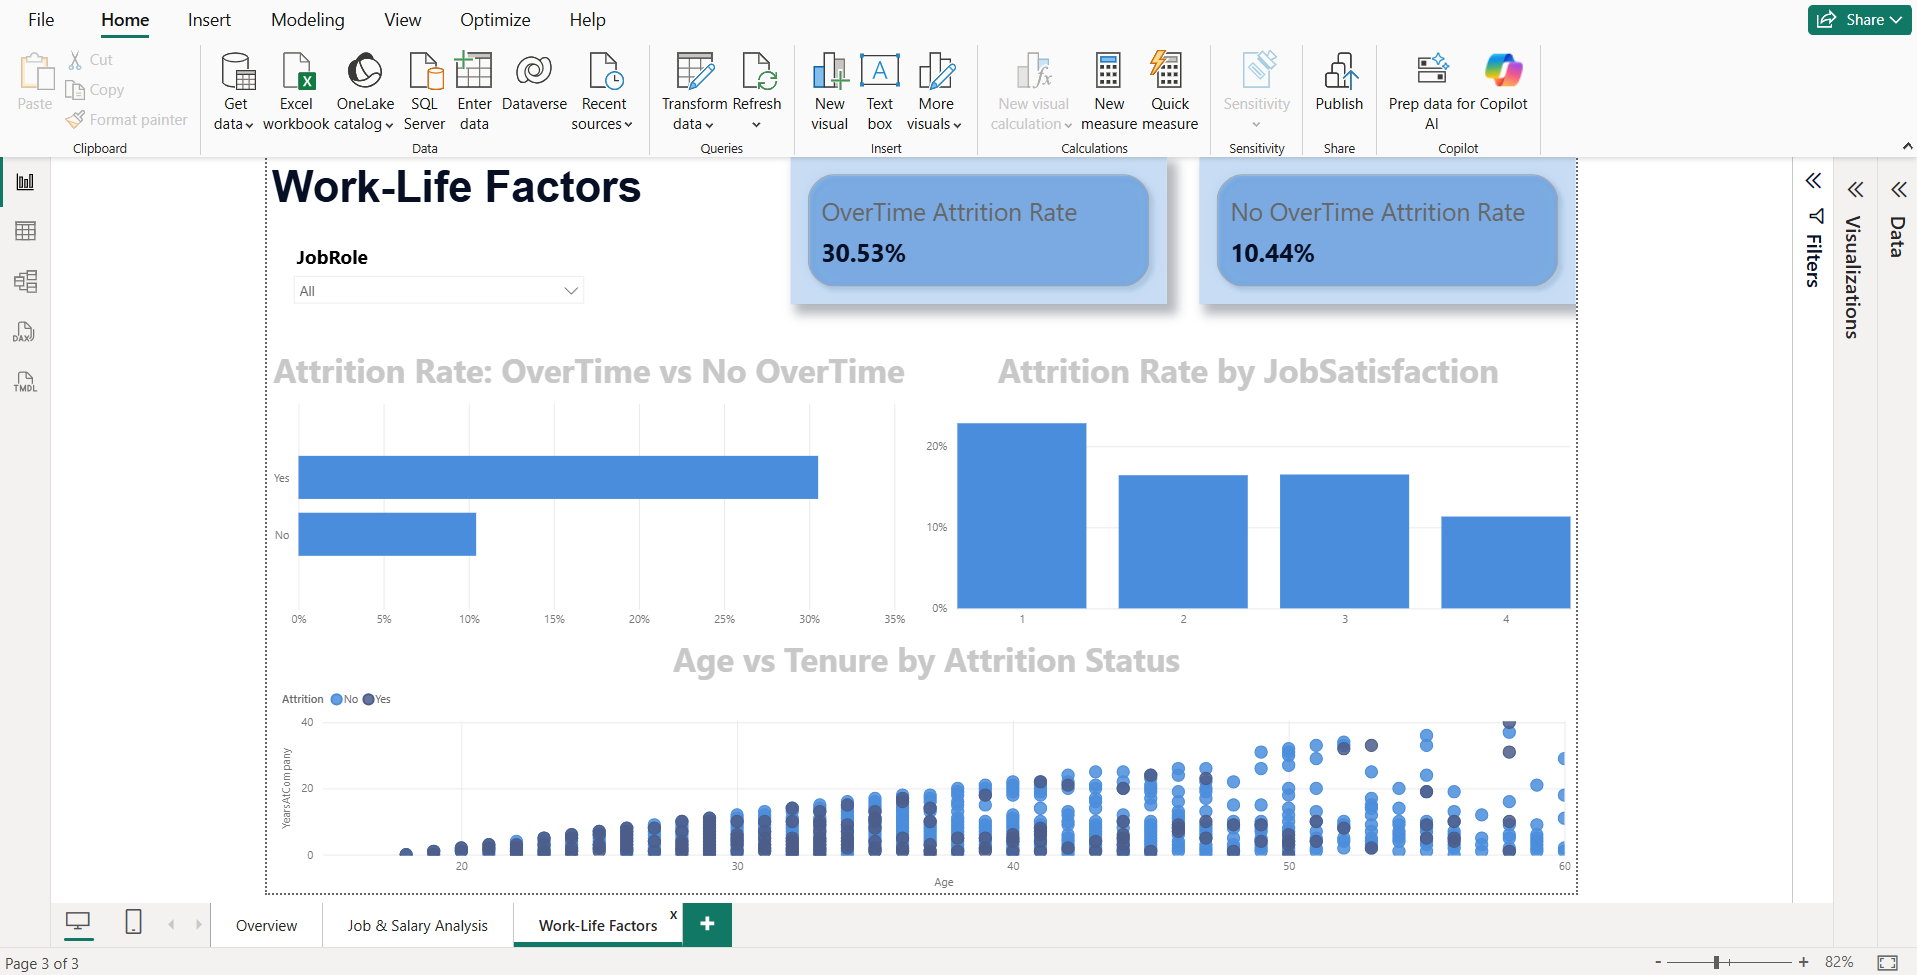

What the dashboard file says about the page in this screenshot:
{"tool":"powerbi","page":{"name":"Work-Life Factors","canvas":[1280,720],"ordinal":2},"visuals":[{"type":"cardVisual","fields":{"Data":["_Measures.OverTime Attrition Rate"]},"box":[512,0,368,144],"z":0},{"type":"cardVisual","fields":{"Data":["_Measures.No OverTime Attrition Rate"]},"box":[912,0,368,144],"z":1000},{"type":"barChart","title":"Attrition Rate: OverTime vs No OverTime","fields":{"Category":["employees.OverTime"],"Y":["_Measures.Attrition Rate"]},"box":[0,186.6,629.8,282.7],"z":2000},{"type":"columnChart","fields":{"Category":["employees.JobSatisfaction"],"Y":["_Measures.Attrition Rate"]},"box":[639.5,186.6,640.8,282.7],"z":3000},{"type":"scatterChart","title":"Age vs Tenure by Attrition Status","fields":{"X":["employees.Age"],"Y":["employees.YearsAtCompany"],"Series":["employees.Attrition"]},"box":[9.6,469.3,1270.7,251.1],"z":4000},{"type":"textbox","box":[0,0,384,80],"z":5000},{"type":"textbox","box":[0,0,9.6,12.3],"z":6000},{"type":"slicer","fields":{"Values":["employees.JobRole"]},"box":[16,80,304,64],"z":7000}]}

Visuals, with their boxes on the page's 1280x720 design canvas (x1, y1, x2, y2). These are canvas units, not pixel positions in the 1917x975 screenshot, which may show the page scaled, cropped or inside an application window:
cardVisual - _Measures.OverTime Attrition Rate: <region>512, 0, 880, 144</region>
cardVisual - _Measures.No OverTime Attrition Rate: <region>912, 0, 1280, 144</region>
"Attrition Rate: OverTime vs No OverTime" barChart: <region>0, 187, 630, 469</region>
columnChart - employees.JobSatisfaction x _Measures.Attrition Rate: <region>640, 187, 1280, 469</region>
"Age vs Tenure by Attrition Status" scatterChart: <region>10, 469, 1280, 720</region>
textbox: <region>0, 0, 384, 80</region>
textbox: <region>0, 0, 10, 12</region>
slicer - employees.JobRole: <region>16, 80, 320, 144</region>
